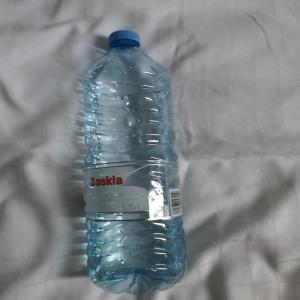Plastic-bottle: (78, 31, 191, 298)
